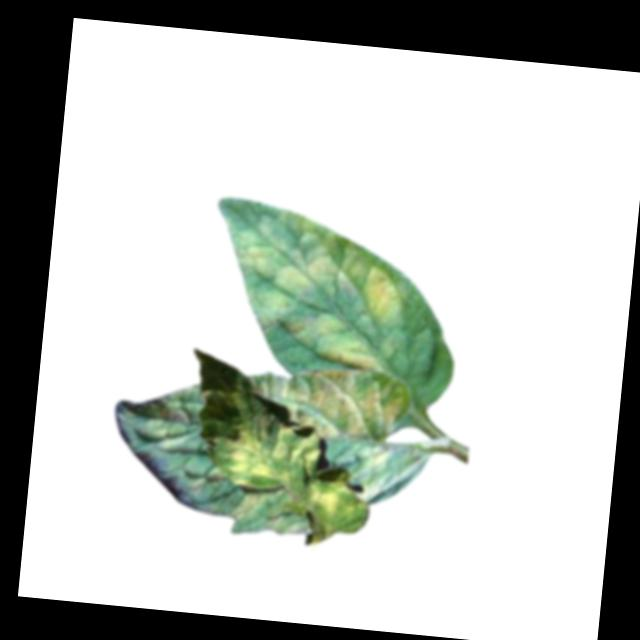Leaf_Mold: (233, 203, 365, 319), (245, 360, 416, 445), (219, 428, 328, 498), (285, 309, 386, 370), (361, 262, 410, 333), (304, 477, 359, 524)
